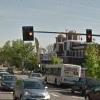Traffic light: (12, 14, 95, 47)
